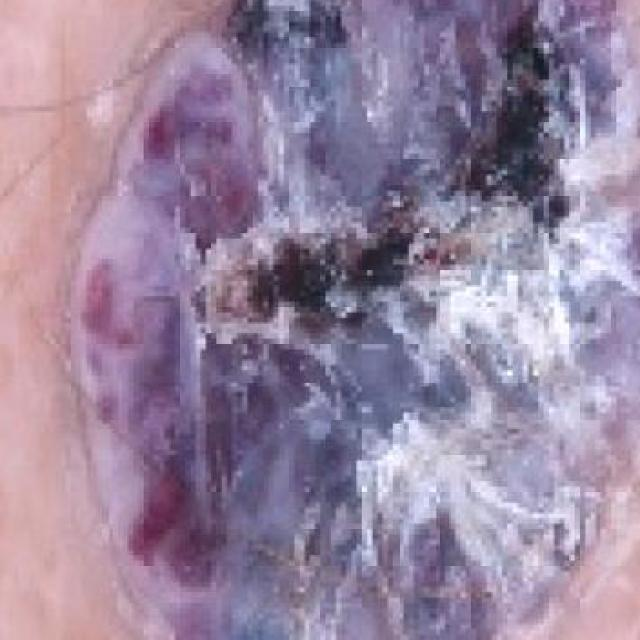VASC: (85, 0, 640, 640)
